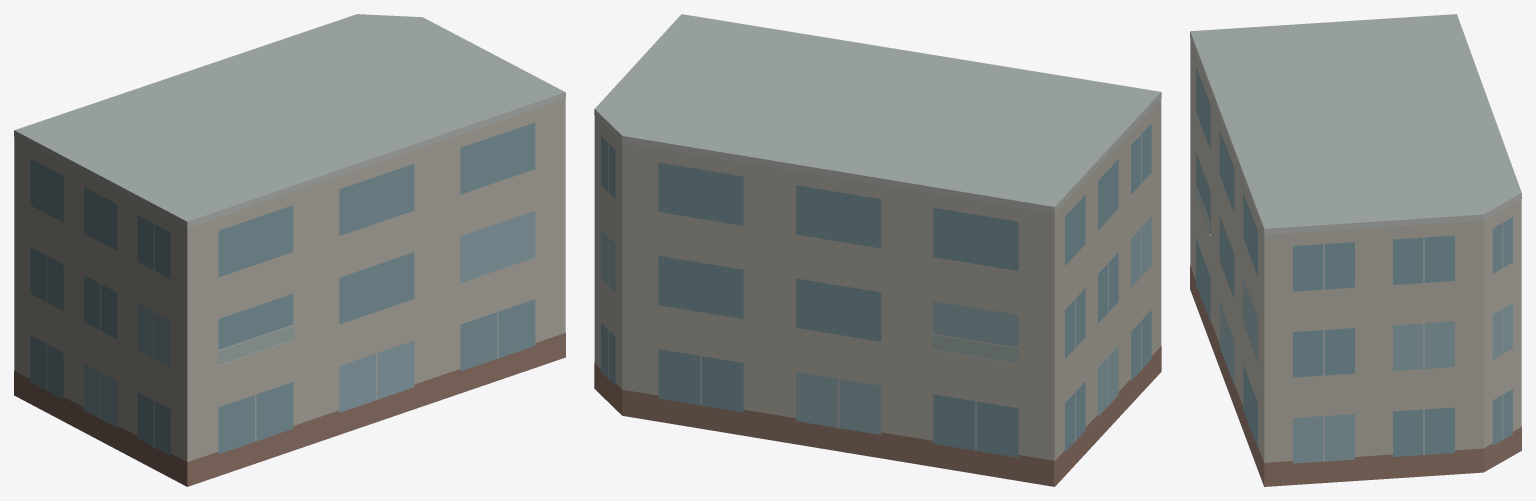
The model's file is survey-upis-32714584.glb.
3 renders of one model, left to right at view 1: azimuth 30°, elevation 25°; view 2: azimuth 150°, elevation 25°; view 3: azimuth 270°, elevation 25°, orthographic. The views are drawn at different scales.
Parts seen in each view (by area): view 1: survey-upis-32714584.tmp; view 2: survey-upis-32714584.tmp; view 3: survey-upis-32714584.tmp.
Part boxes in pixels (left/top/right/bottom): survey-upis-32714584.tmp: left=14, top=14, right=565, bottom=486; survey-upis-32714584.tmp: left=594, top=14, right=1161, bottom=486; survey-upis-32714584.tmp: left=1190, top=14, right=1521, bottom=486.
Bounding box in the file's own units: 18.41 × 10.3 × 12.01.
